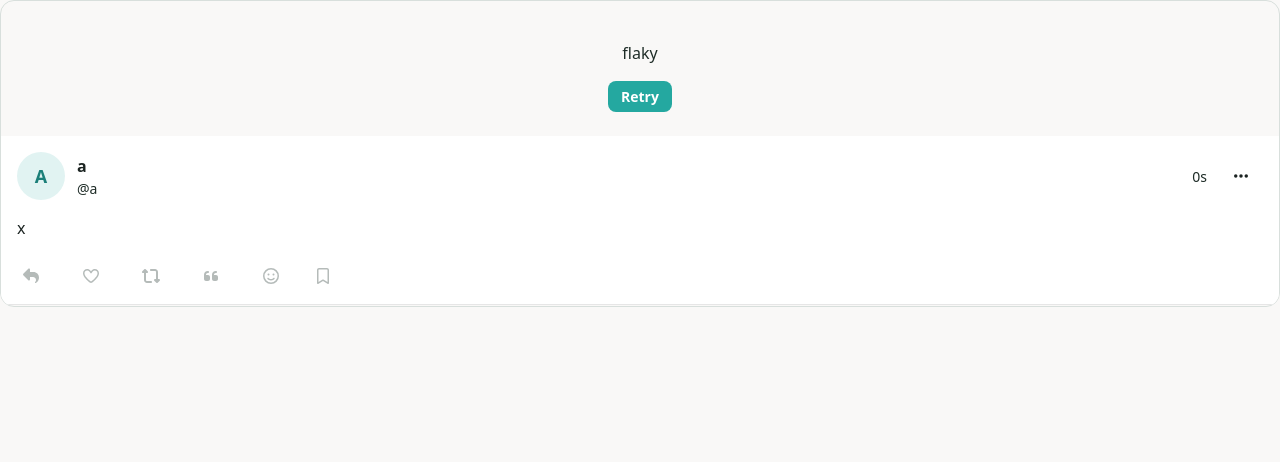
Test: TimelinePage › retry after a failed loadMore resumes from the cursor
The width and height of the screenshot is (1280, 462).
Expected: the number of elements with class "status-card" is 1, [1,136,1279,305]
Click the button "Retry" at [640, 96], box [608,81,672,112]
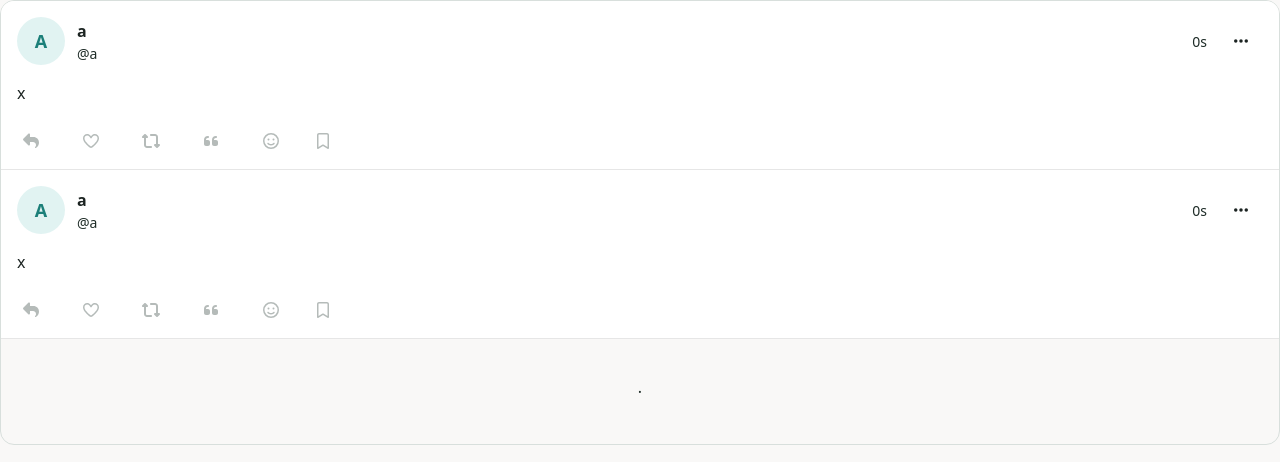
Result: the number of elements with class "status-card" is 2 at [1,1,1279,170]; [1,170,1279,339]
